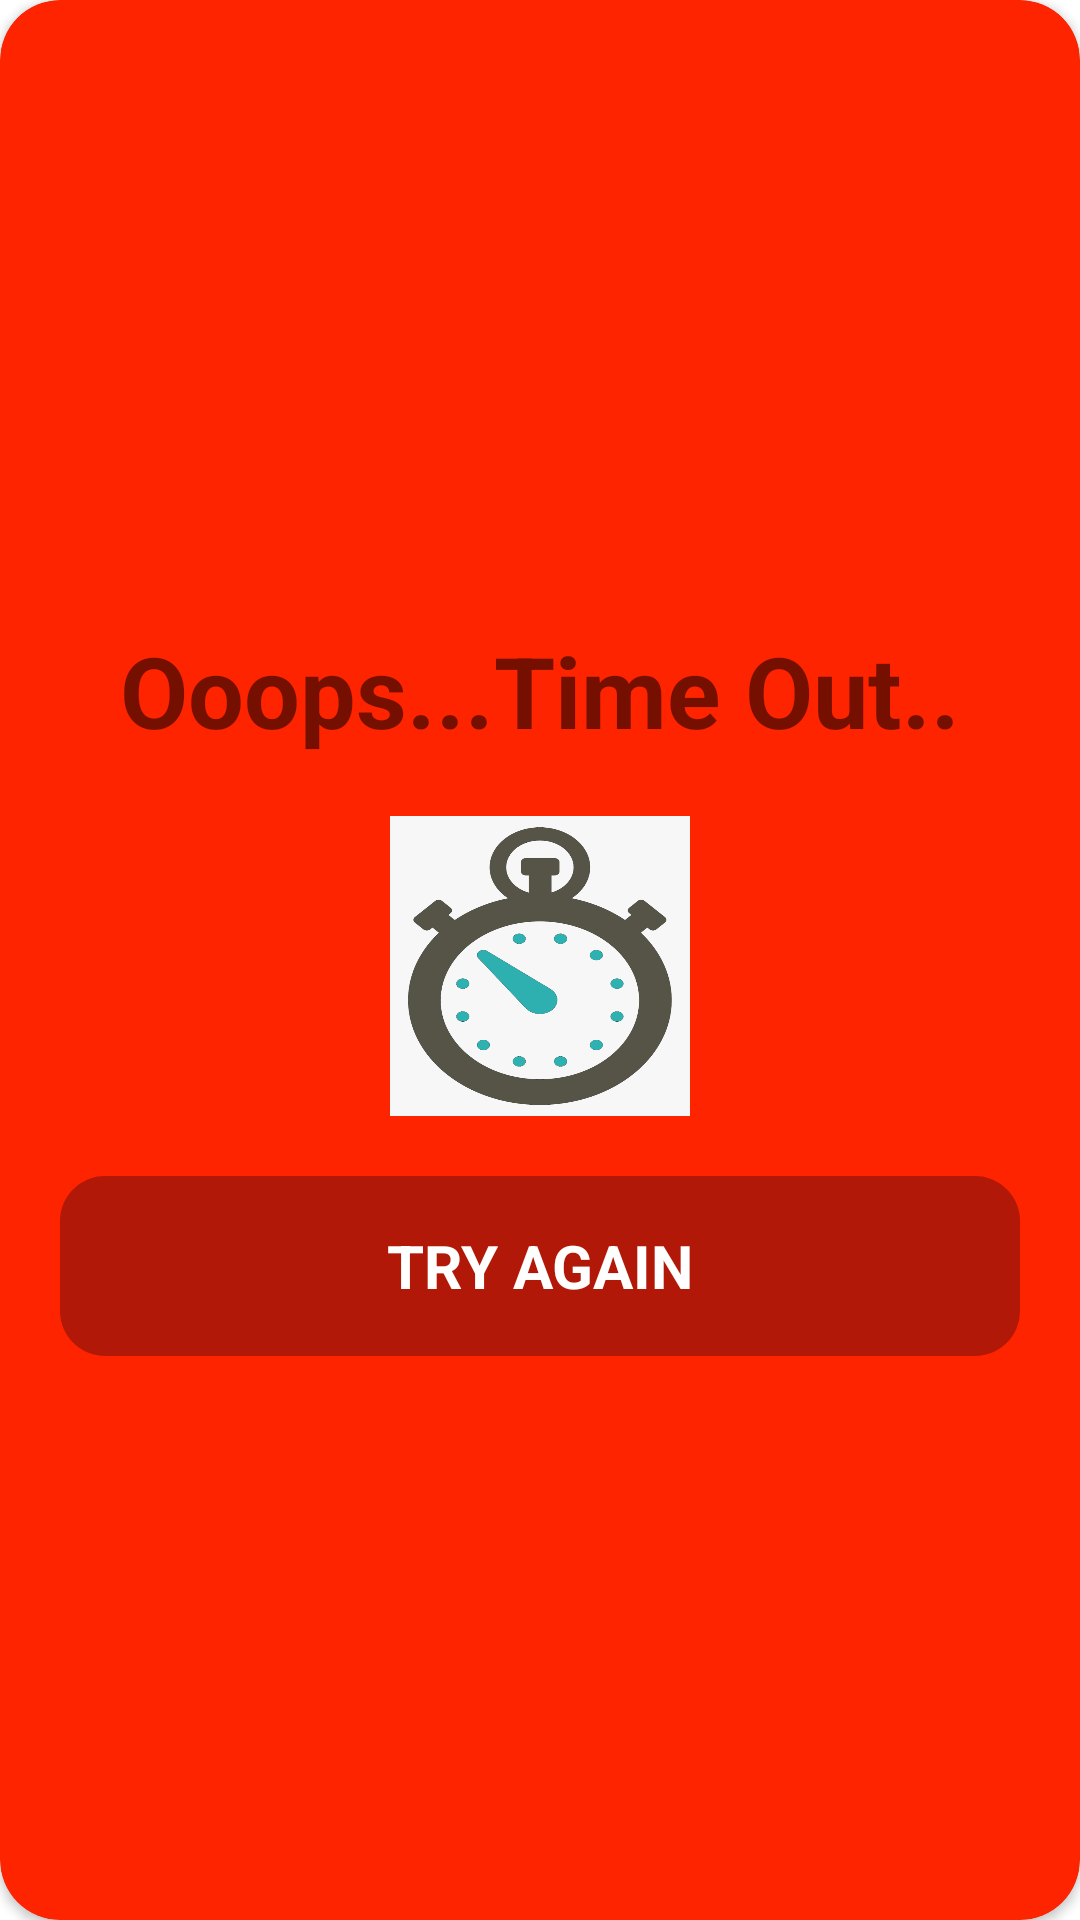

Icon click points for this 1080*1920 phone screenshot, format (x,y):
timr: (540,966)
